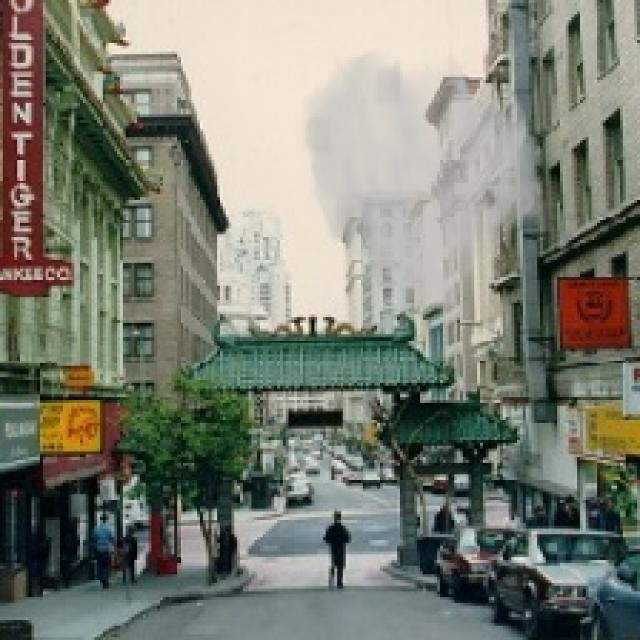smoke: (300, 46, 549, 326)
